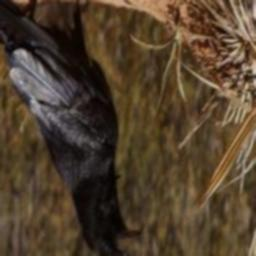Crow: (0, 0, 141, 256)
